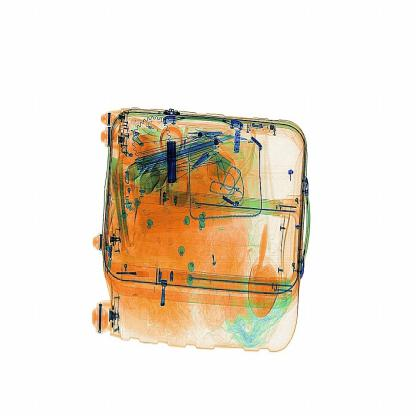scissors: (164, 130, 190, 196)
